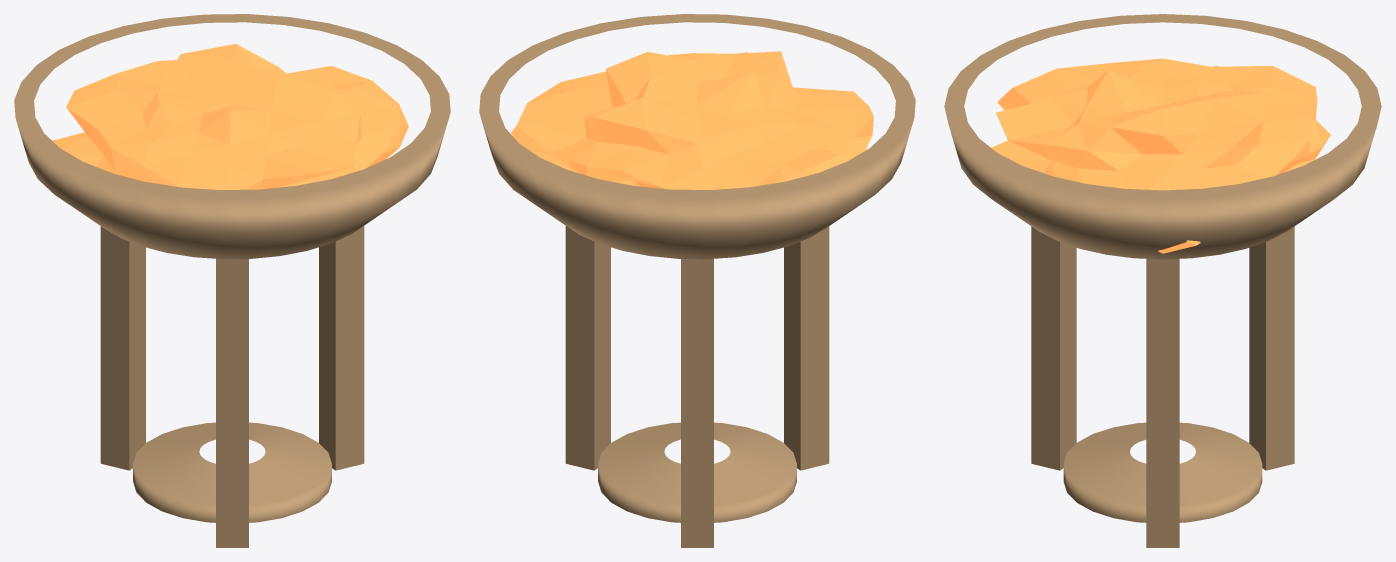
File: brazier.glb
The picture shows the model from 3 angles, left to right: view 1: azimuth 30°, elevation 25°; view 2: azimuth 150°, elevation 25°; view 3: azimuth 270°, elevation 25°; orthographic projection.
Visible parts, largest first — view 1: brazier, coals; view 2: brazier, coals; view 3: brazier, coals.
Boxes of the visible parts, x1,y1,x2,y2 form: brazier: (14, 14, 450, 547); coals: (52, 44, 408, 189); brazier: (479, 14, 915, 547); coals: (511, 51, 873, 189); brazier: (944, 14, 1381, 547); coals: (991, 58, 1330, 253).
Bounding box in the file's own units: 1.32 × 1.35 × 1.32.
